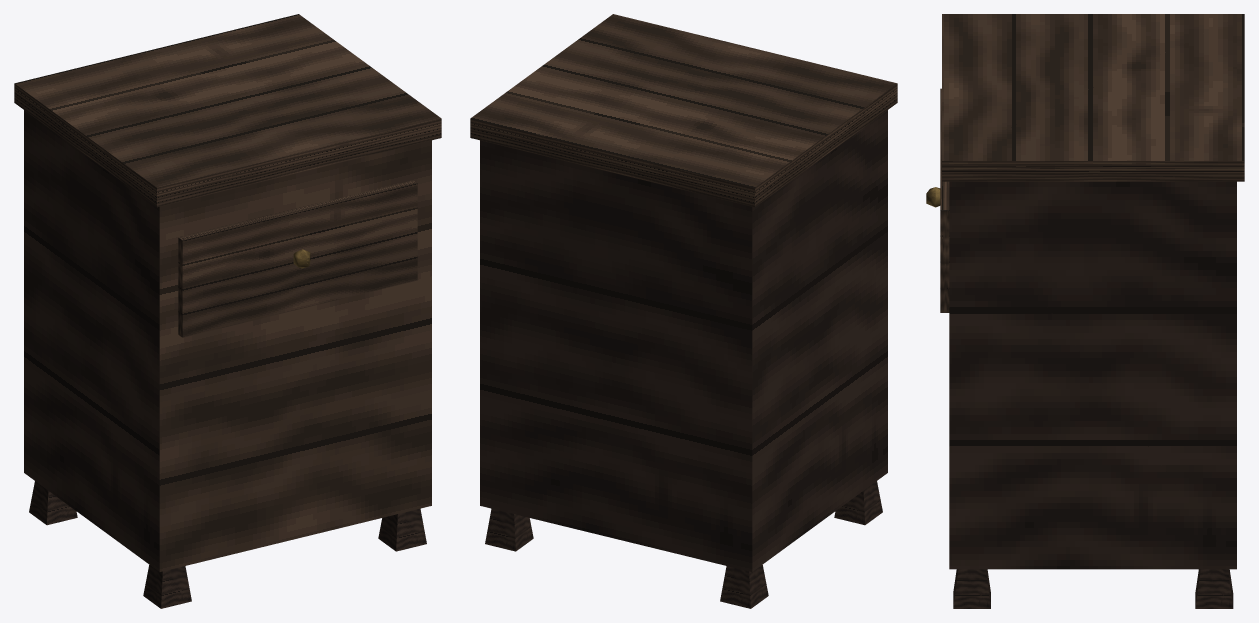
File: PSXH_Nightstand.glb
The picture shows the model from 3 angles, left to right: view 1: azimuth 30°, elevation 25°; view 2: azimuth 150°, elevation 25°; view 3: azimuth 270°, elevation 25°; orthographic projection. The views are drawn at different scales.
Parts seen in each view (by area): view 1: PSXH_Nightstand; view 2: PSXH_Nightstand; view 3: PSXH_Nightstand.
Part boxes in pixels (box(x1,y1,x2,y2)): PSXH_Nightstand: box(14, 14, 441, 608); PSXH_Nightstand: box(470, 14, 897, 608); PSXH_Nightstand: box(926, 14, 1244, 608).
Bounding box in the file's own units: 0.46 × 0.66 × 0.4204.
Materials: 1 (1 with a texture image).
